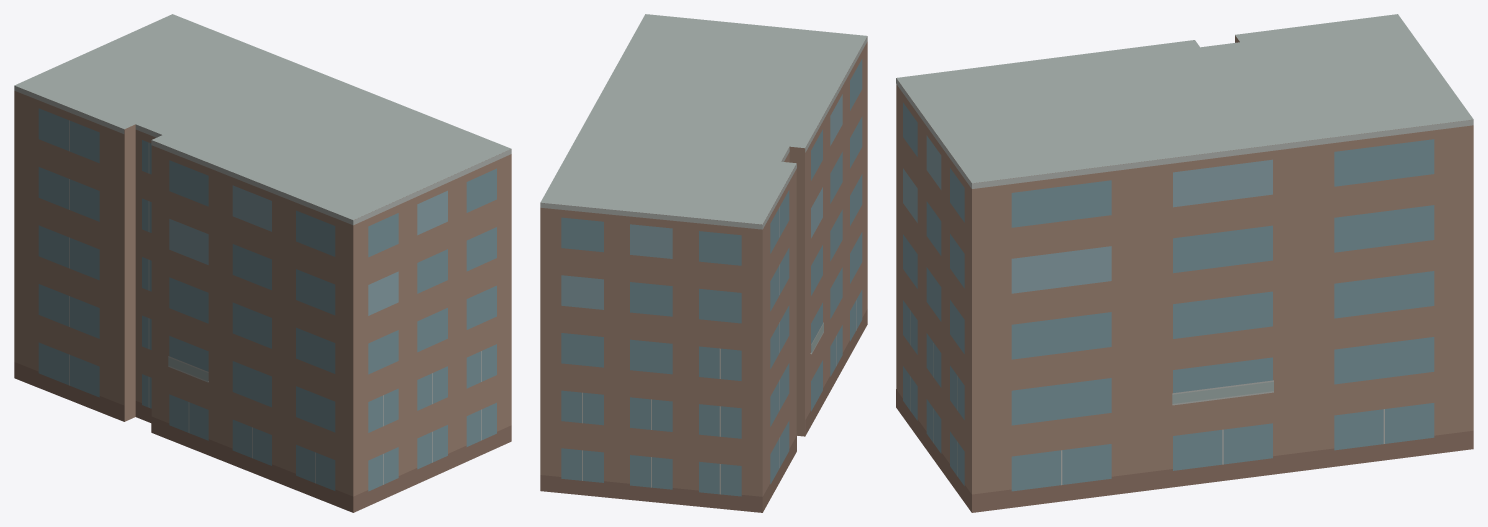
The model's file is survey-upis-32621789.glb.
3 renders of one model, left to right at view 1: azimuth 30°, elevation 25°; view 2: azimuth 150°, elevation 25°; view 3: azimuth 270°, elevation 25°, orthographic. The views are drawn at different scales.
Visible parts, largest first — view 1: survey-upis-32621789.tmp; view 2: survey-upis-32621789.tmp; view 3: survey-upis-32621789.tmp.
Boxes of the visible parts, <box> form: survey-upis-32621789.tmp: <box>14,14,511,512</box>; survey-upis-32621789.tmp: <box>540,14,867,512</box>; survey-upis-32621789.tmp: <box>896,14,1473,512</box>.
Bounding box in the file's own units: 15.33 × 13.9 × 22.09.
